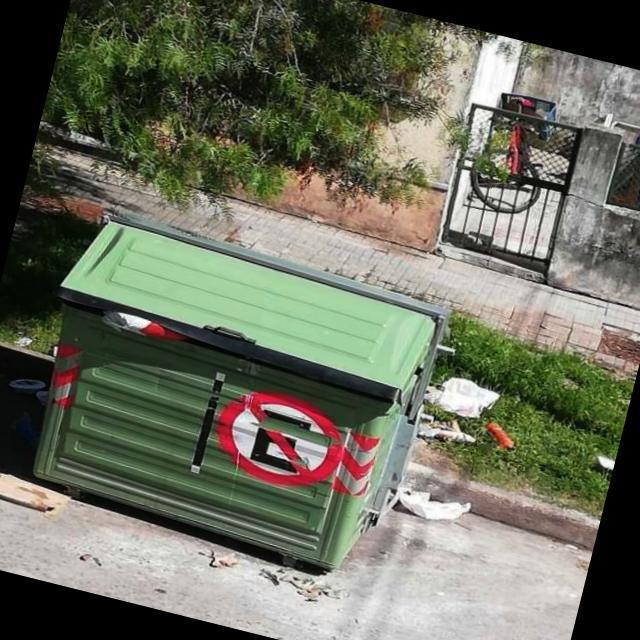garbage: (383, 343, 522, 548), (14, 172, 111, 245), (0, 458, 80, 537), (84, 294, 190, 351), (4, 360, 58, 414), (588, 438, 620, 492)
